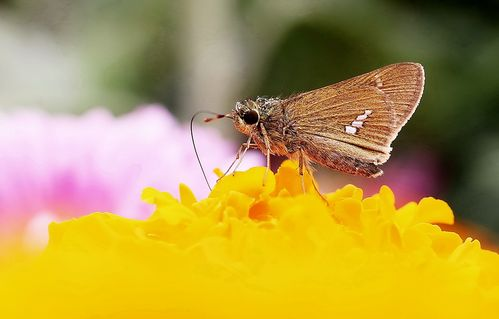Hesperiidae: (189, 56, 427, 195)
